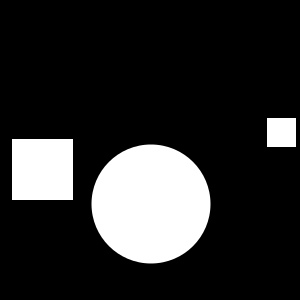circle: (12, 139, 73, 200), (267, 118, 296, 147)
rectangle: (91, 144, 210, 264)
